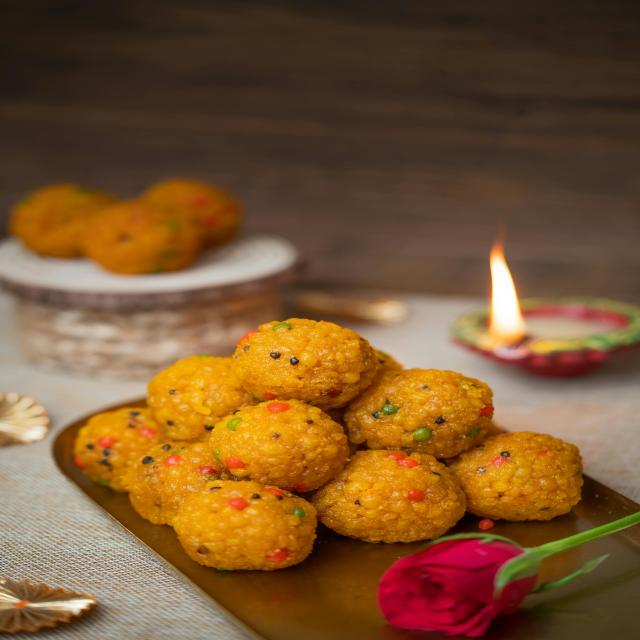Laddu: (81, 323, 575, 568), (21, 179, 254, 274)
